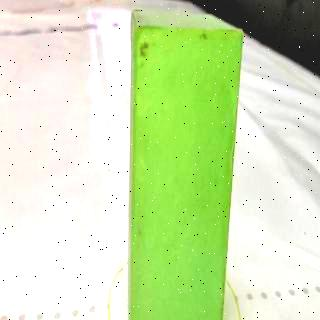greenbox: (128, 7, 244, 320)
